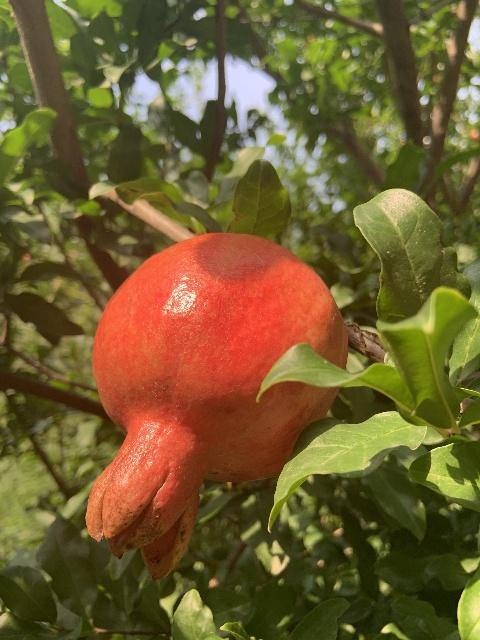ripe: (84, 232, 347, 581)
